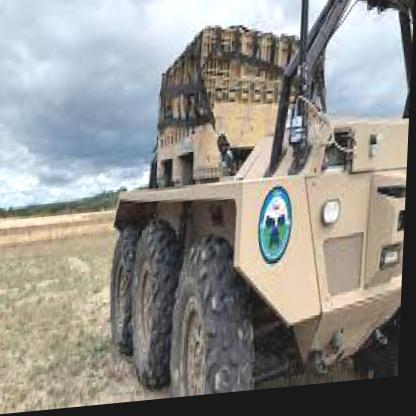UGV: (108, 14, 413, 404)
